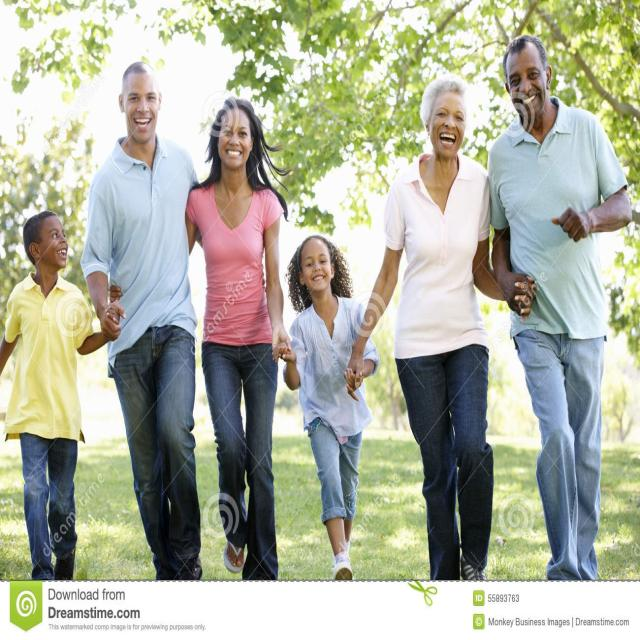body: (343, 72, 537, 581), (106, 95, 294, 580), (485, 33, 633, 620), (80, 59, 206, 580), (0, 210, 121, 580), (271, 232, 382, 582)
